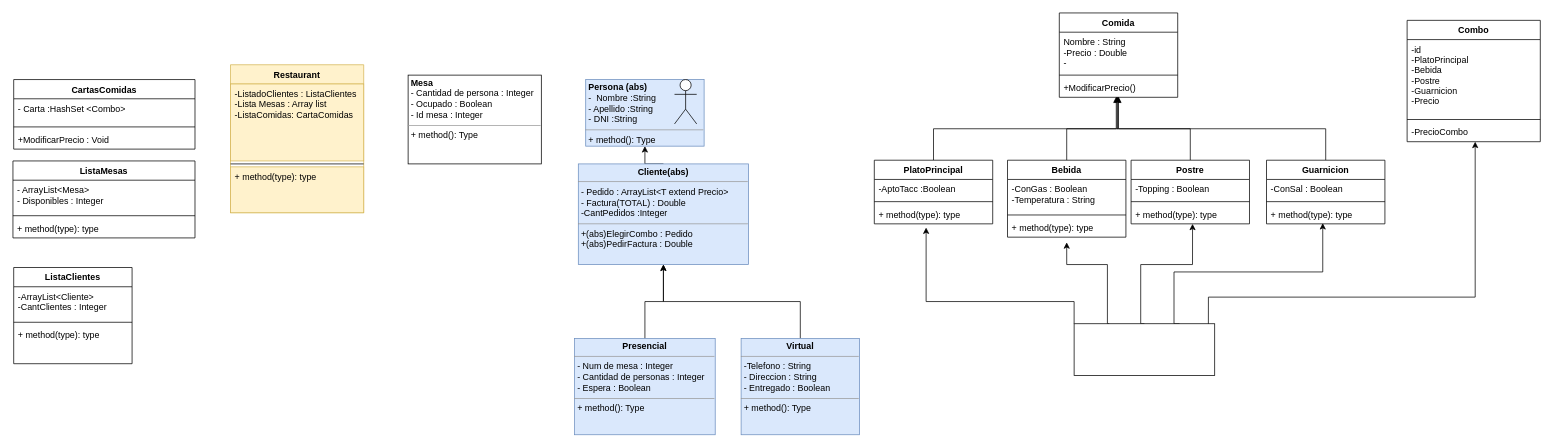
Image size: 1553x448. Some labels were removed from this diagram. Each missing label, with the centre of its shape:
<<Interface>> Precio +getPrecio() : Double: the point at 1144,349
Gonzalo: the point at 685,101
